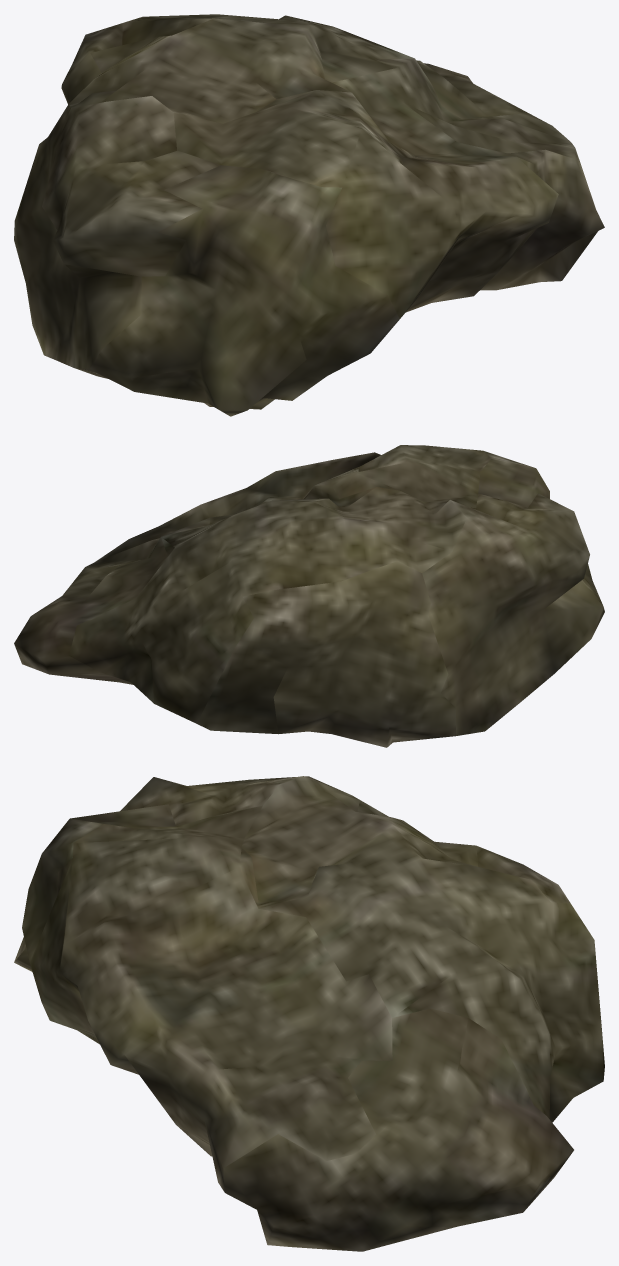
File: rock_moss_set_02_rock12.glb
The picture shows the model from 3 angles, top to bottom: view 1: azimuth 30°, elevation 25°; view 2: azimuth 150°, elevation 25°; view 3: azimuth 270°, elevation 25°; orthographic projection. The views are drawn at different scales.
Parts seen in each view (by area): view 1: rock_moss_set_02_rock12; view 2: rock_moss_set_02_rock12; view 3: rock_moss_set_02_rock12.
Boxes of the visible parts, left/top/right/bottom form: rock_moss_set_02_rock12: left=14, top=14, right=604, bottom=416; rock_moss_set_02_rock12: left=14, top=445, right=604, bottom=747; rock_moss_set_02_rock12: left=14, top=776, right=604, bottom=1251.
Size of the model in its own units: 1.58 by 0.736 by 1.42.
1 material, 1 textured.
